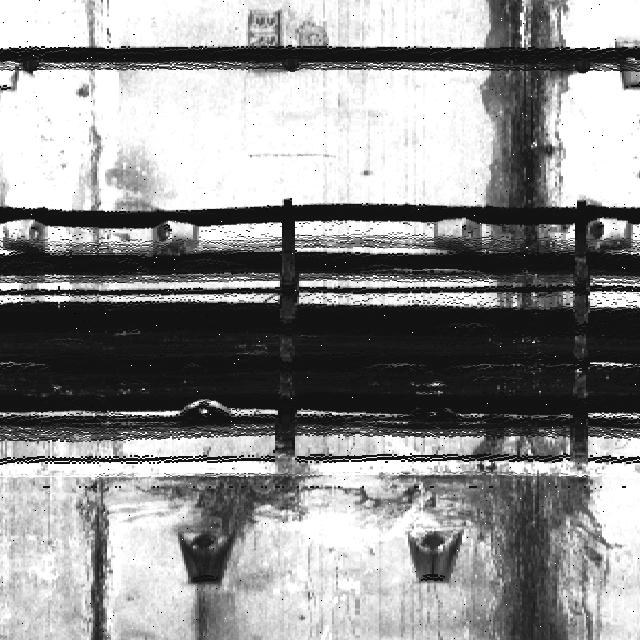leakage: (464, 1, 590, 328), (433, 482, 617, 639), (62, 476, 124, 640)
